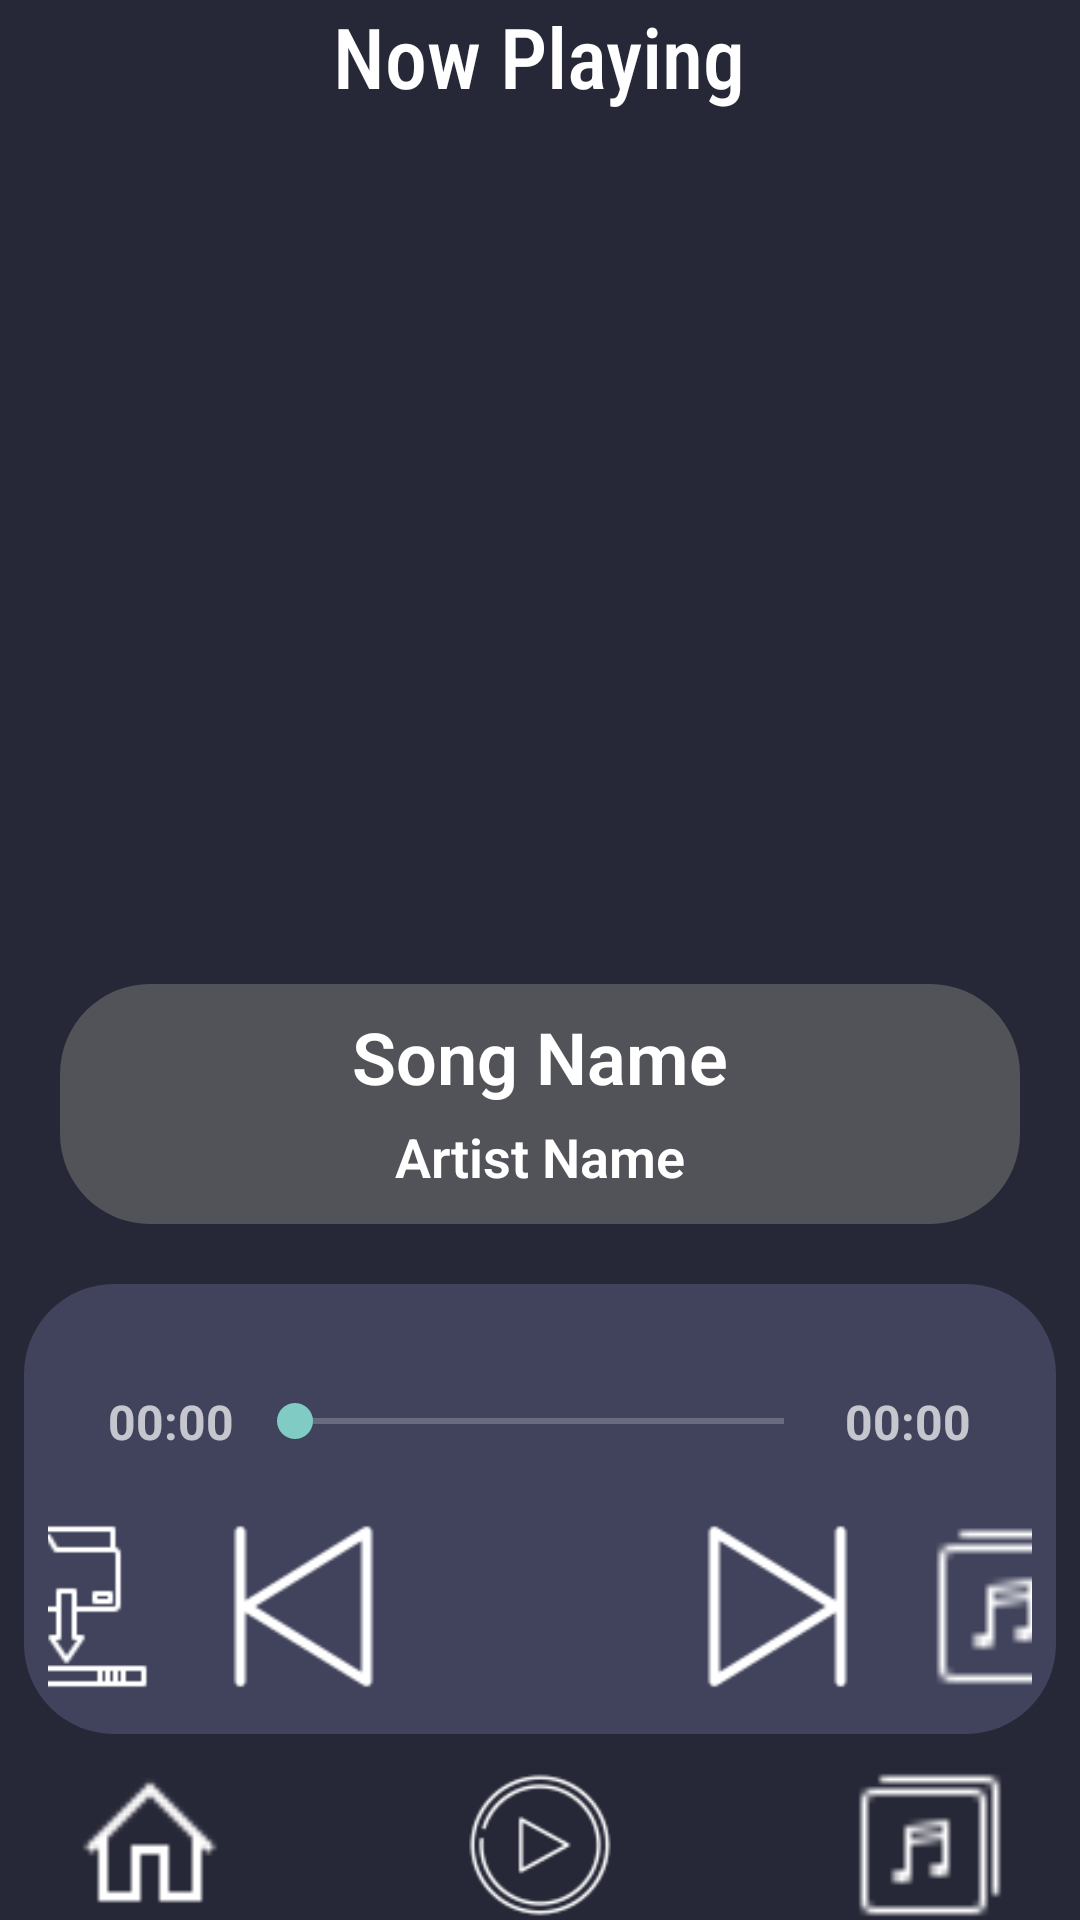

Icon bounding boxes for this 1080x1920 phone screenshot, format (x1, y1, x2, y2):
back: (233, 1526, 374, 1687)
home: (83, 1782, 217, 1903)
next: (707, 1526, 848, 1687)
play: (469, 1774, 611, 1916)
